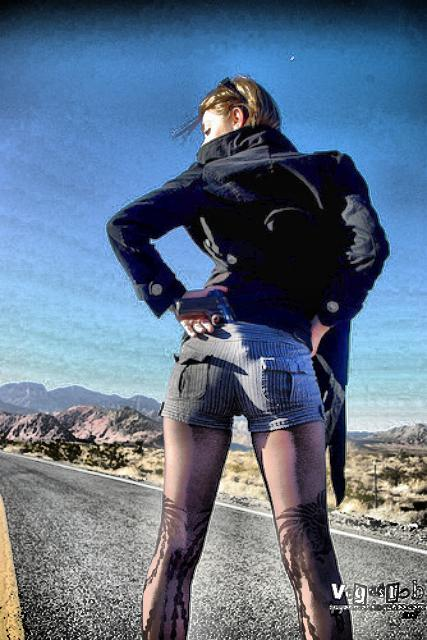pistol: (174, 288, 234, 326)
